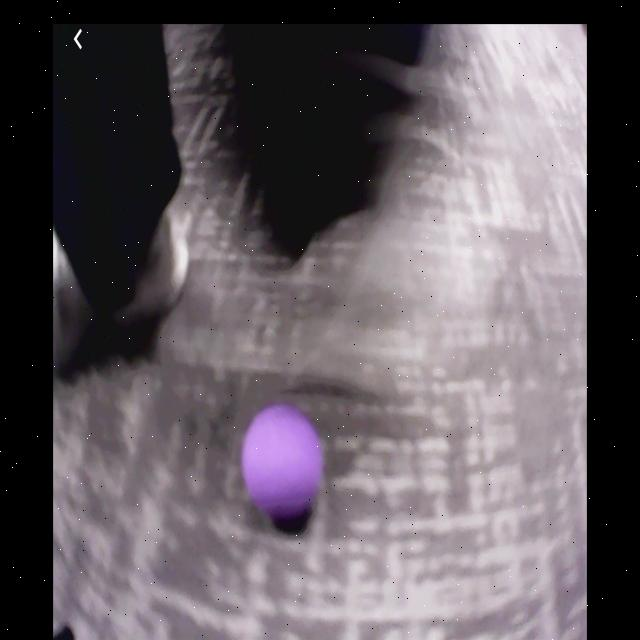ball: (241, 407, 320, 520)
